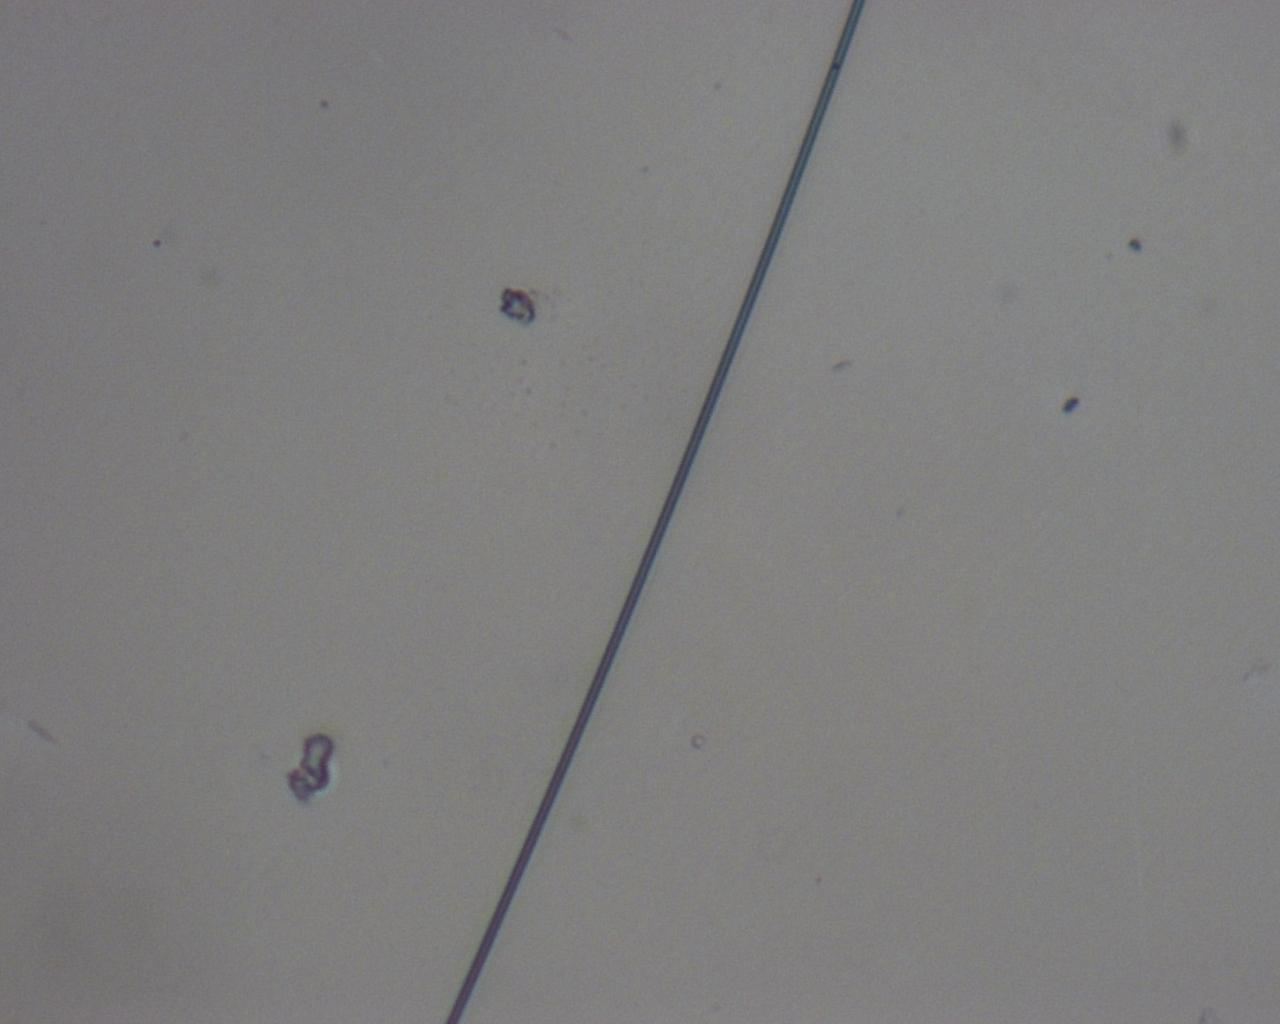fiber: (0, 103, 1280, 841)
